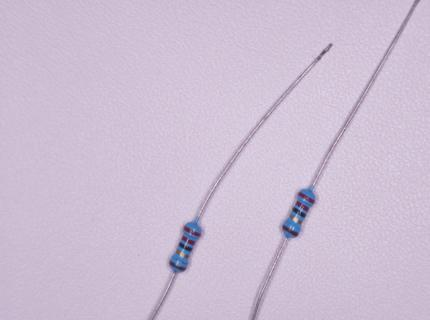Black band: (292, 207, 307, 219), (178, 242, 193, 252)
Brown band: (282, 224, 299, 237), (169, 260, 186, 272)
Gold band: (289, 214, 303, 225), (176, 249, 190, 259)
Red band: (298, 191, 315, 204), (183, 225, 201, 237), (295, 200, 310, 212), (181, 235, 196, 246)
